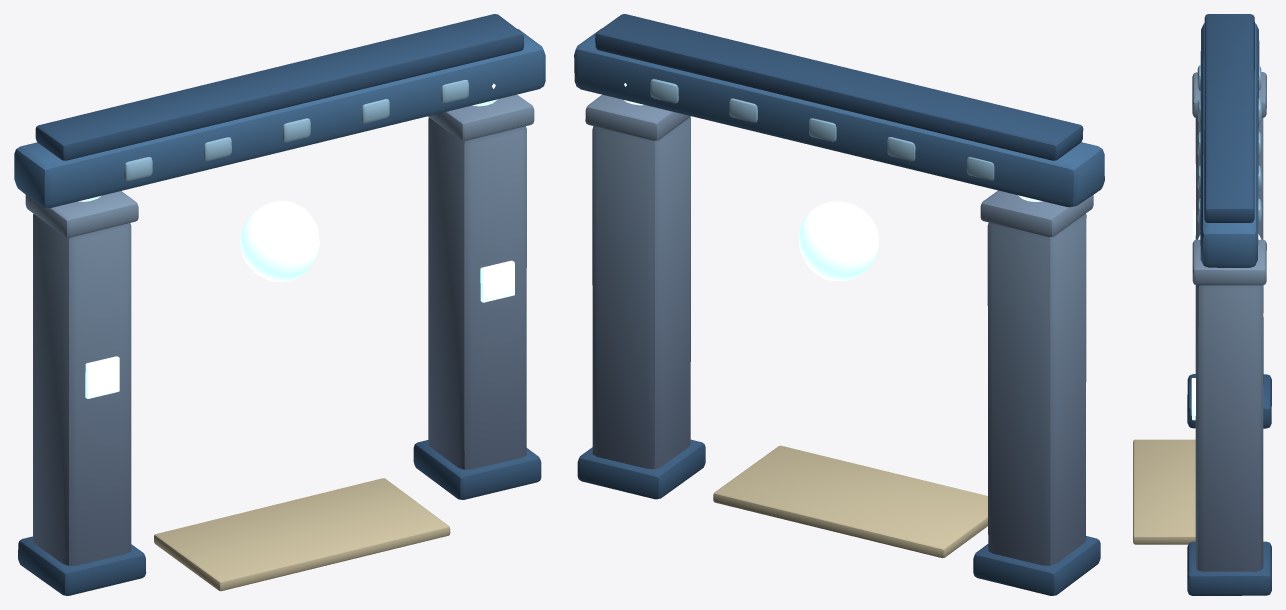
3 renders of one model, left to right at view 1: azimuth 30°, elevation 25°; view 2: azimuth 150°, elevation 25°; view 3: azimuth 270°, elevation 25°, orthographic. The views are drawn at different scales.
Visible parts, largest first — view 1: gate_7eb86cae; view 2: gate_7eb86cae; view 3: gate_7eb86cae.
Boxes of the visible parts, x1,y1,x2,y2 form: gate_7eb86cae: (14, 14, 545, 595); gate_7eb86cae: (574, 14, 1104, 595); gate_7eb86cae: (1133, 14, 1271, 595).
Size of the model in its own units: 5.25 by 4.41 by 1.44.
